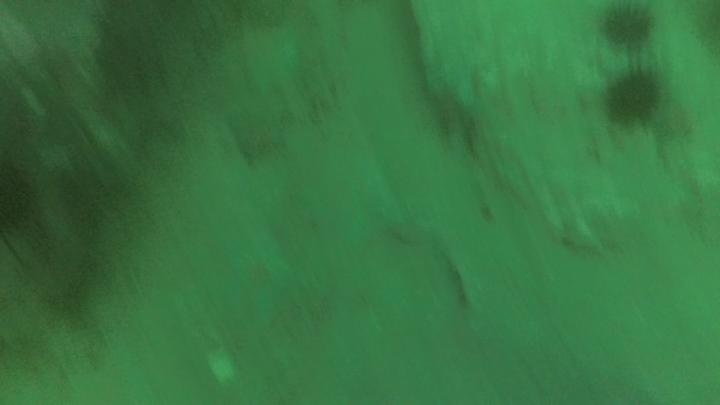echinus: (599, 63, 667, 129), (0, 155, 40, 246), (597, 1, 657, 50)
starfish: (294, 145, 408, 248), (204, 225, 300, 326), (223, 104, 291, 167)
